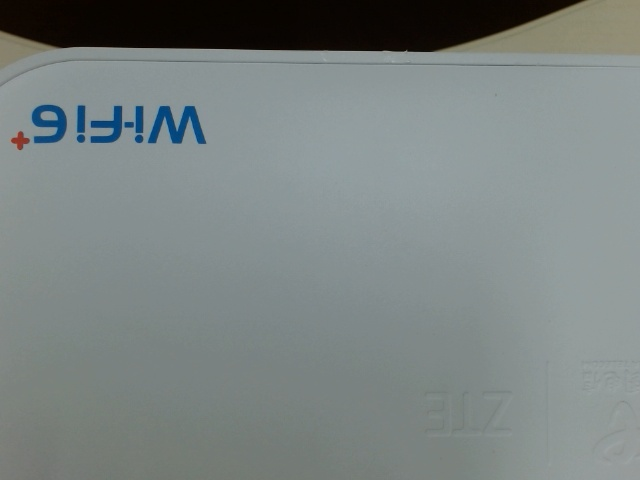AJ_ZTEWIFI6Plus: (4, 96, 214, 163)
